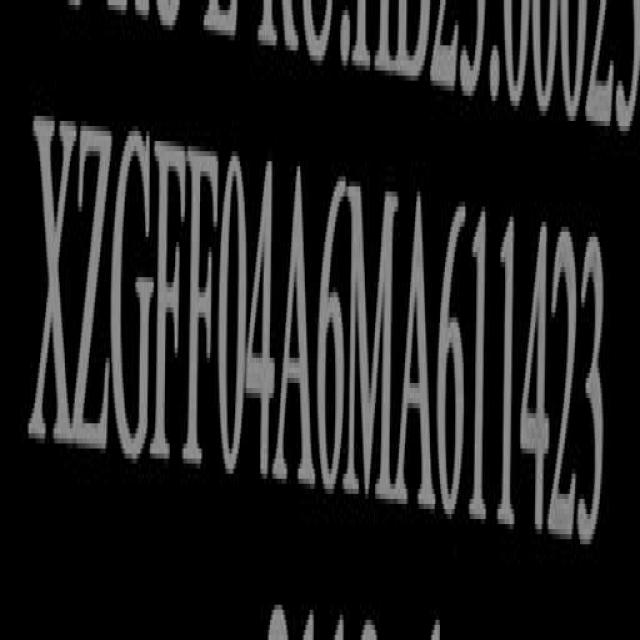0: (216, 151, 247, 483)
1: (496, 213, 518, 538), (470, 205, 490, 534)
2: (548, 222, 577, 545)
3: (580, 232, 604, 552)
4: (248, 146, 278, 488), (520, 212, 551, 540)
6: (317, 174, 349, 495), (437, 201, 468, 523)
A: (278, 163, 314, 489), (398, 193, 434, 518)
F: (153, 126, 185, 476), (188, 138, 219, 480)
G: (112, 131, 154, 472)
M: (351, 176, 398, 506)
X: (35, 111, 75, 462)
Z: (75, 116, 111, 461)
